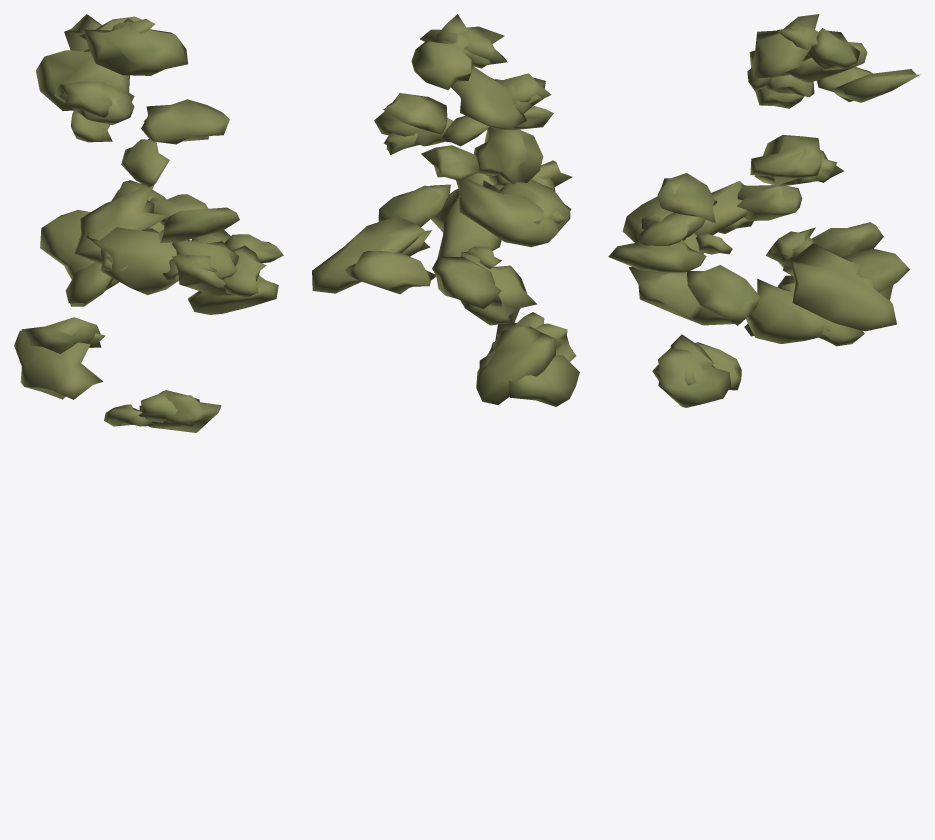
File: baum-buche-2-mittel.glb
3 renders of one model, left to right at view 1: azimuth 30°, elevation 25°; view 2: azimuth 150°, elevation 25°; view 3: azimuth 270°, elevation 25°, orthographic.
Visible parts, largest first — view 1: Baum_Stamm.001; view 2: Baum_Stamm.001; view 3: Baum_Stamm.001.
Boxes of the visible parts, bbox=[...] form: Baum_Stamm.001: bbox=[14, 14, 283, 432]; Baum_Stamm.001: bbox=[312, 14, 579, 406]; Baum_Stamm.001: bbox=[608, 14, 920, 407].
Size of the model in its own units: 9.23 by 31.41 by 11.13.
